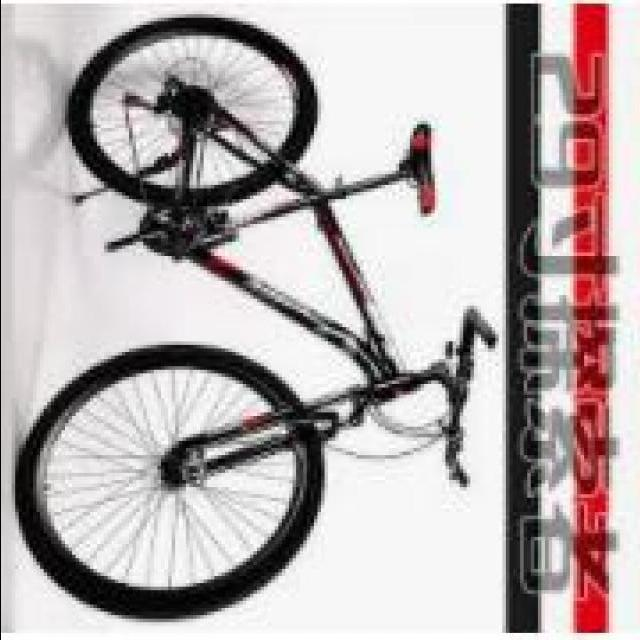bicycle: (43, 12, 484, 616)
